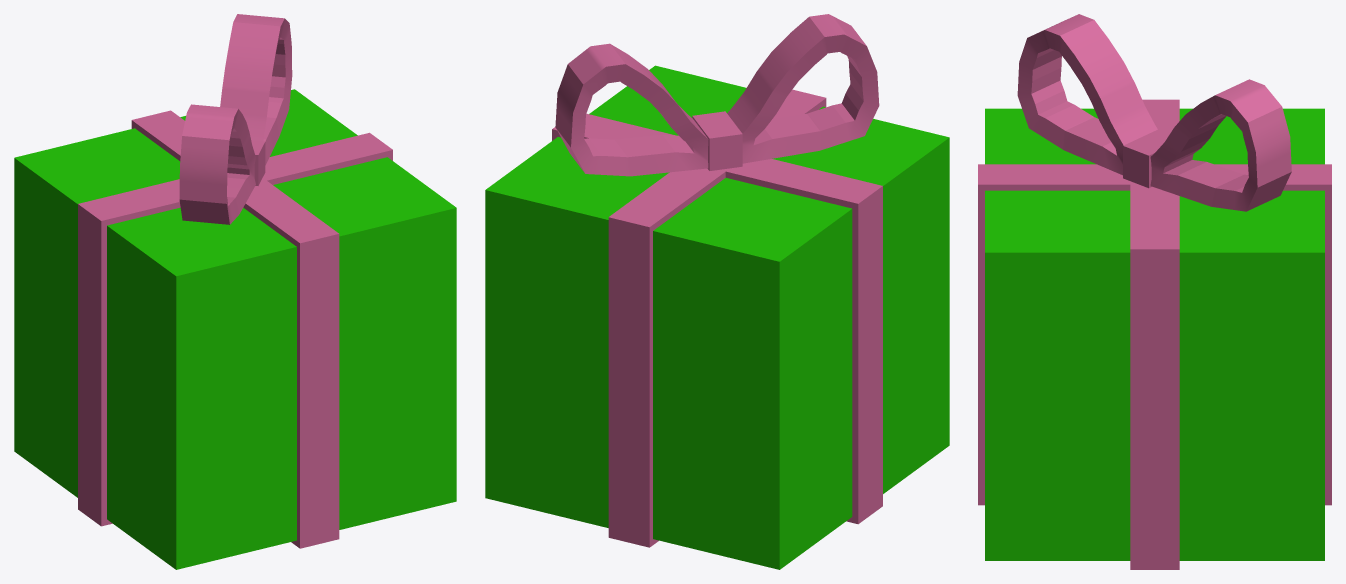
Rendered from Present3.fbx.
3 views of the same model, side by side, from view 1: azimuth 30°, elevation 25°; view 2: azimuth 150°, elevation 25°; view 3: azimuth 270°, elevation 25° (orthographic). The views are drawn at different scales.
Parts seen in each view (by area): view 1: Present3; view 2: Present3; view 3: Present3.
Part boxes in pixels (x1,y1,x2,y2): Present3: [14, 14, 456, 569]; Present3: [485, 14, 949, 569]; Present3: [978, 14, 1331, 569].
Size of the model in its own units: 5.2 by 7.1 by 5.2.
